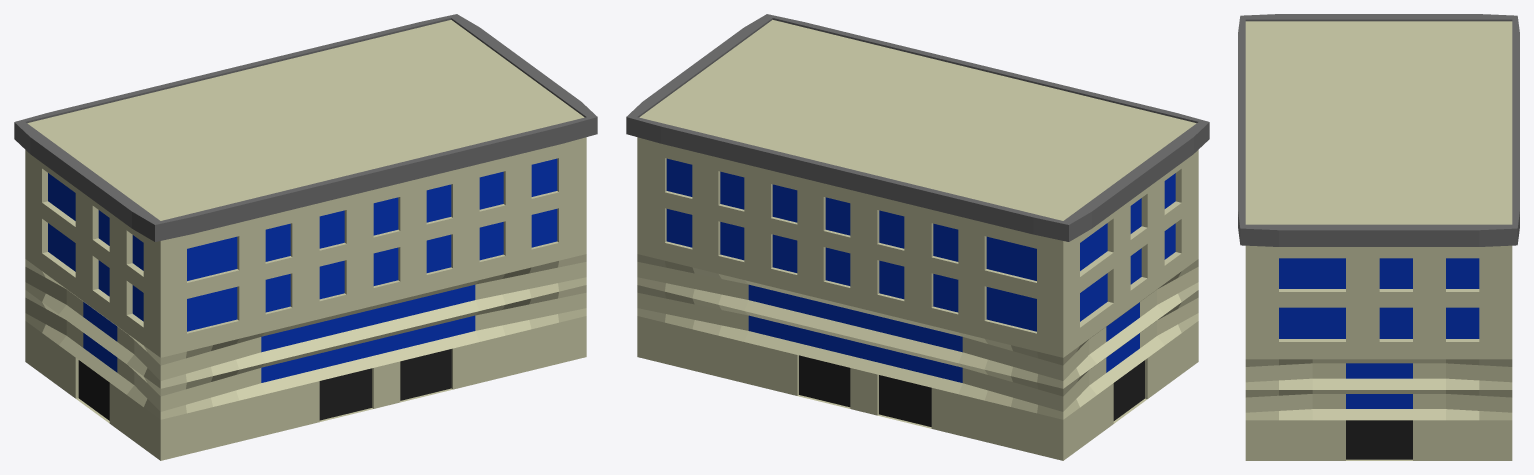
Rendered from richblud1 (1).fbx.
3 views of the same model, side by side, from view 1: azimuth 30°, elevation 25°; view 2: azimuth 150°, elevation 25°; view 3: azimuth 270°, elevation 25° (orthographic).
Parts seen in each view (by area): view 1: Cube.066; view 2: Cube.066; view 3: Cube.066.
Boxes of the visible parts, x1,y1,x2,y2 form: Cube.066: [14, 14, 597, 460]; Cube.066: [626, 14, 1209, 460]; Cube.066: [1238, 14, 1519, 460].
Size of the model in its own units: 1241 by 633 by 683.
